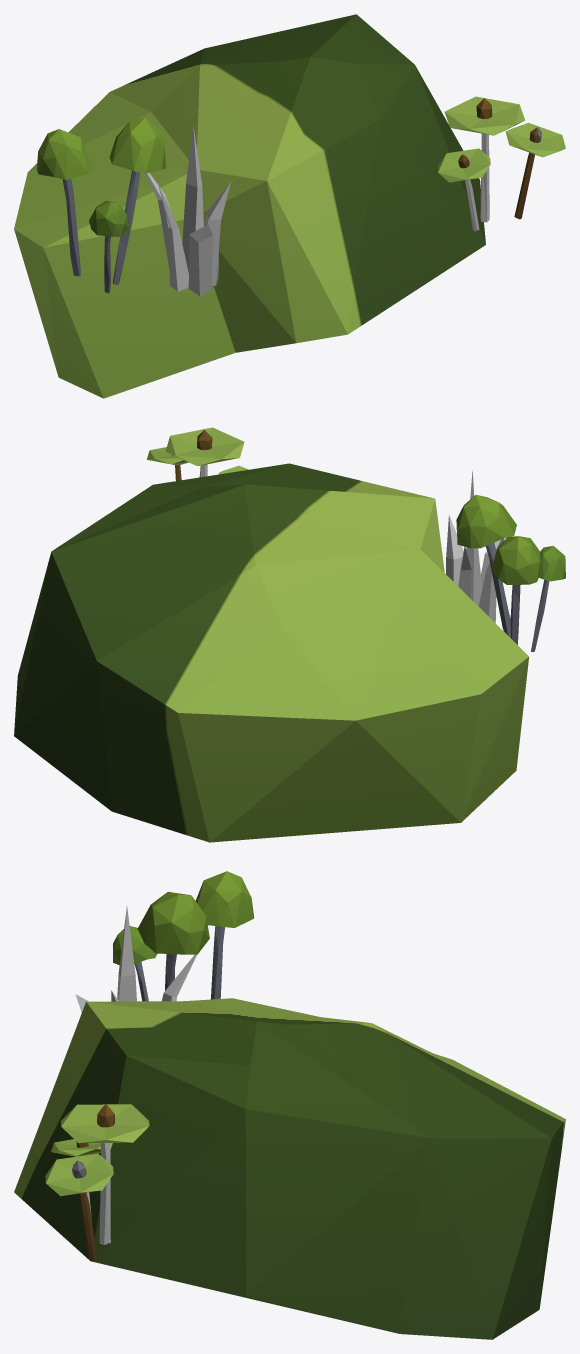
The model's file is Rock_09.fbx.
The picture shows the model from 3 angles, top to bottom: view 1: azimuth 30°, elevation 25°; view 2: azimuth 150°, elevation 25°; view 3: azimuth 270°, elevation 25°; orthographic projection. The views are drawn at different scales.
Parts seen in each view (by area): view 1: Rock_09; view 2: Rock_09; view 3: Rock_09.
Boxes of the visible parts, x1,y1,x2,y2 form: Rock_09: [14, 14, 565, 398]; Rock_09: [14, 427, 565, 842]; Rock_09: [14, 871, 565, 1339].
Size of the model in its own units: 1.77 by 1.08 by 1.61.
